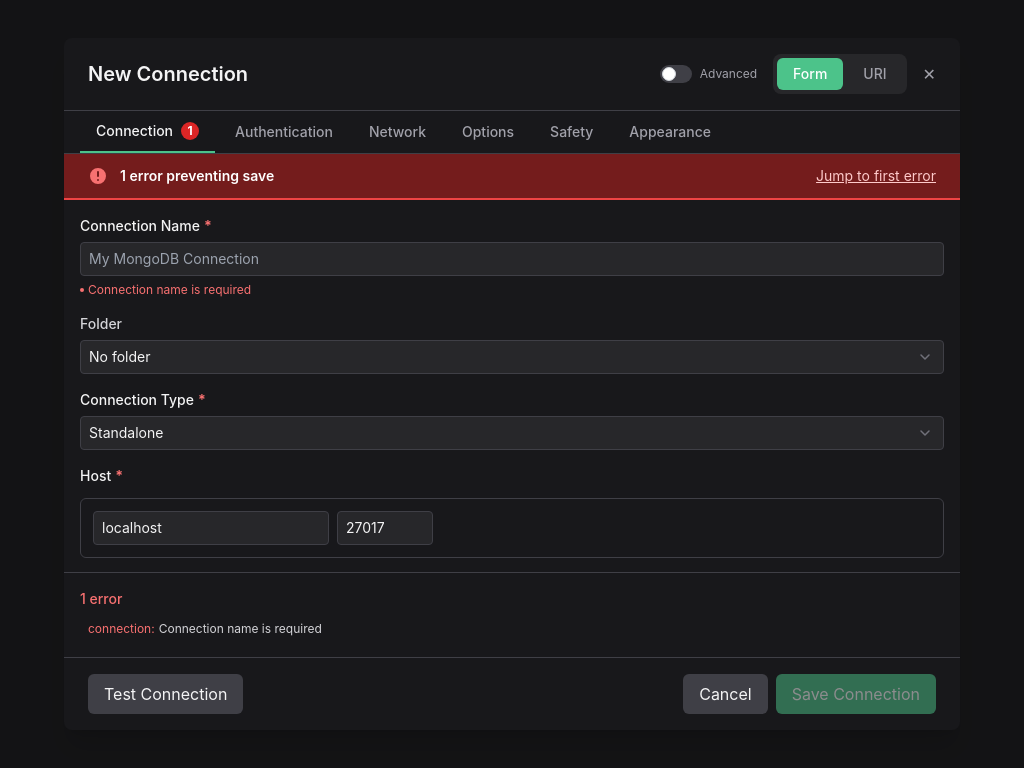
Test: ConnectionFormV2 › URI Mode › parses URI into form fields
Switch to URI mode
Click the button "URI": (875, 74) [847,58,903,90]
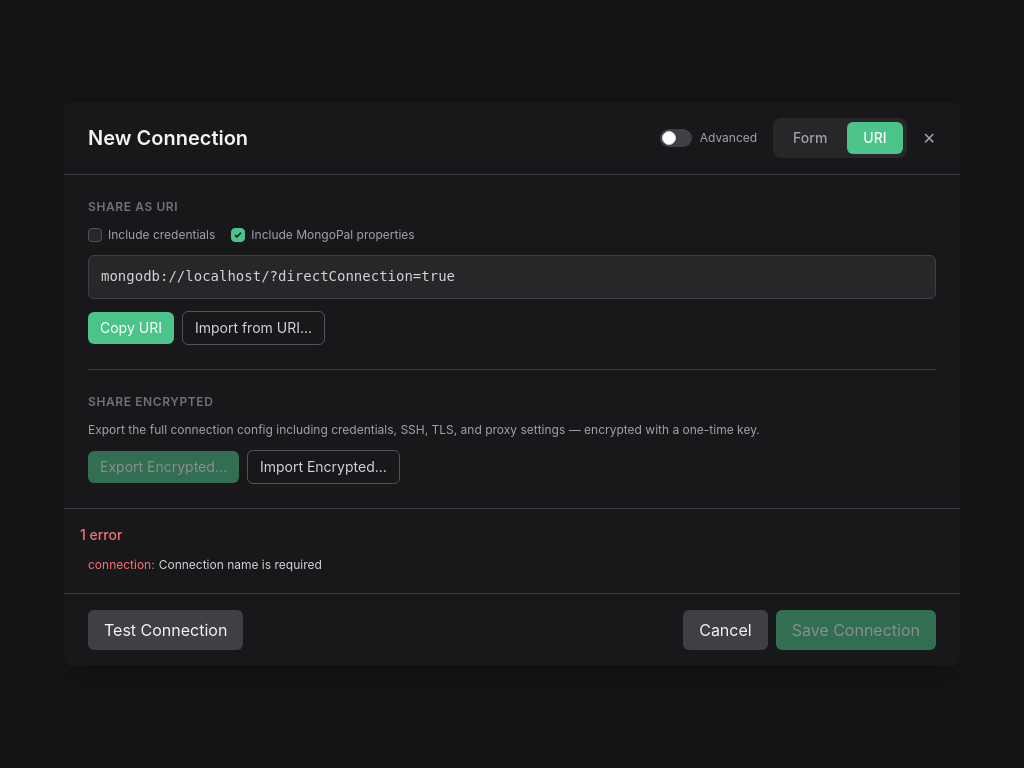
Open import overlay
Click the button "Import from URI...": (253, 328) [182,311,325,345]
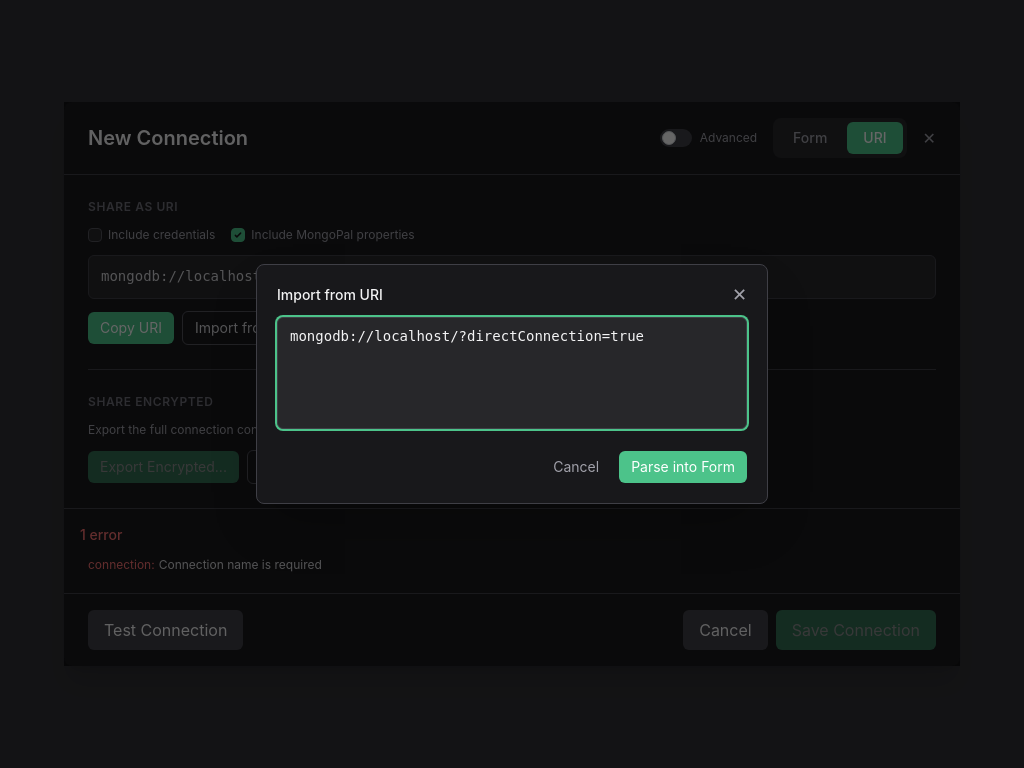
Enter a URI in the overlay textarea
Replace the text in the text box with placeholder "mongodb://localhost:27017" with "mongodb://user:pass@localhost:27017/mydb": (512, 373) [277,317,747,429]
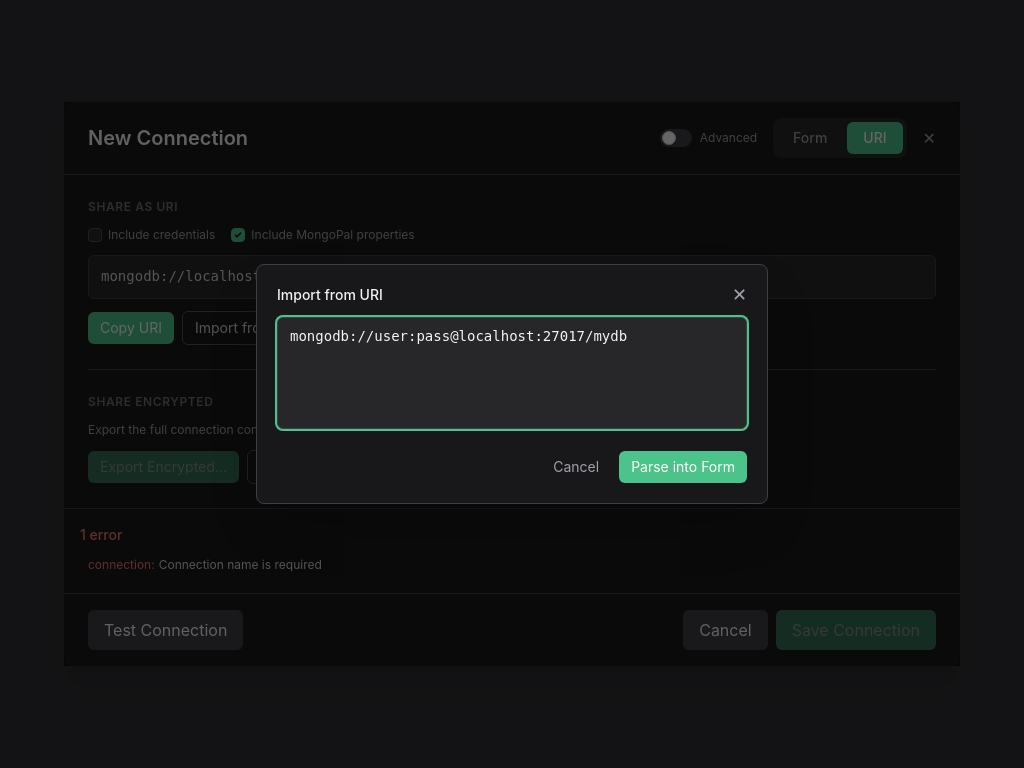
Click Parse
Click the button "Parse into Form": (683, 467) [619,451,747,483]
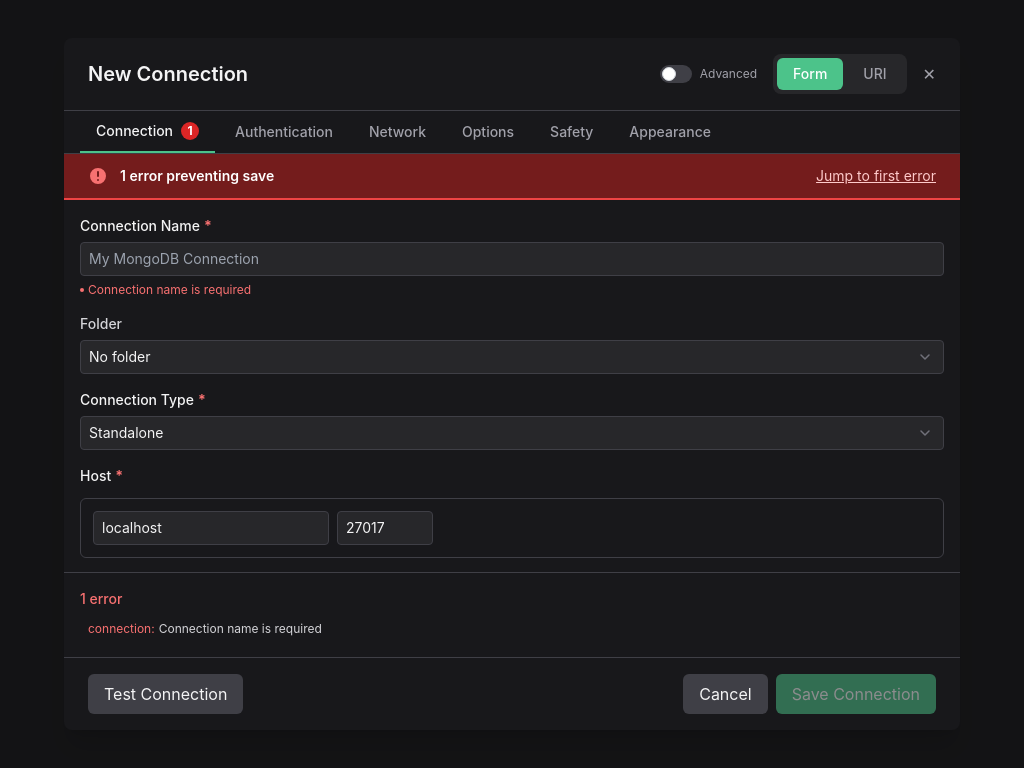
Check: the text "Connection" is shown, box [96,122,173,139]
